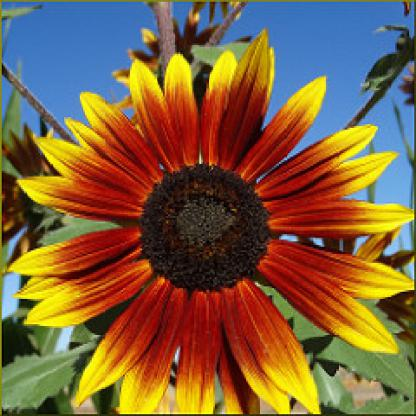SUN FLOWER: (10, 30, 408, 410)
